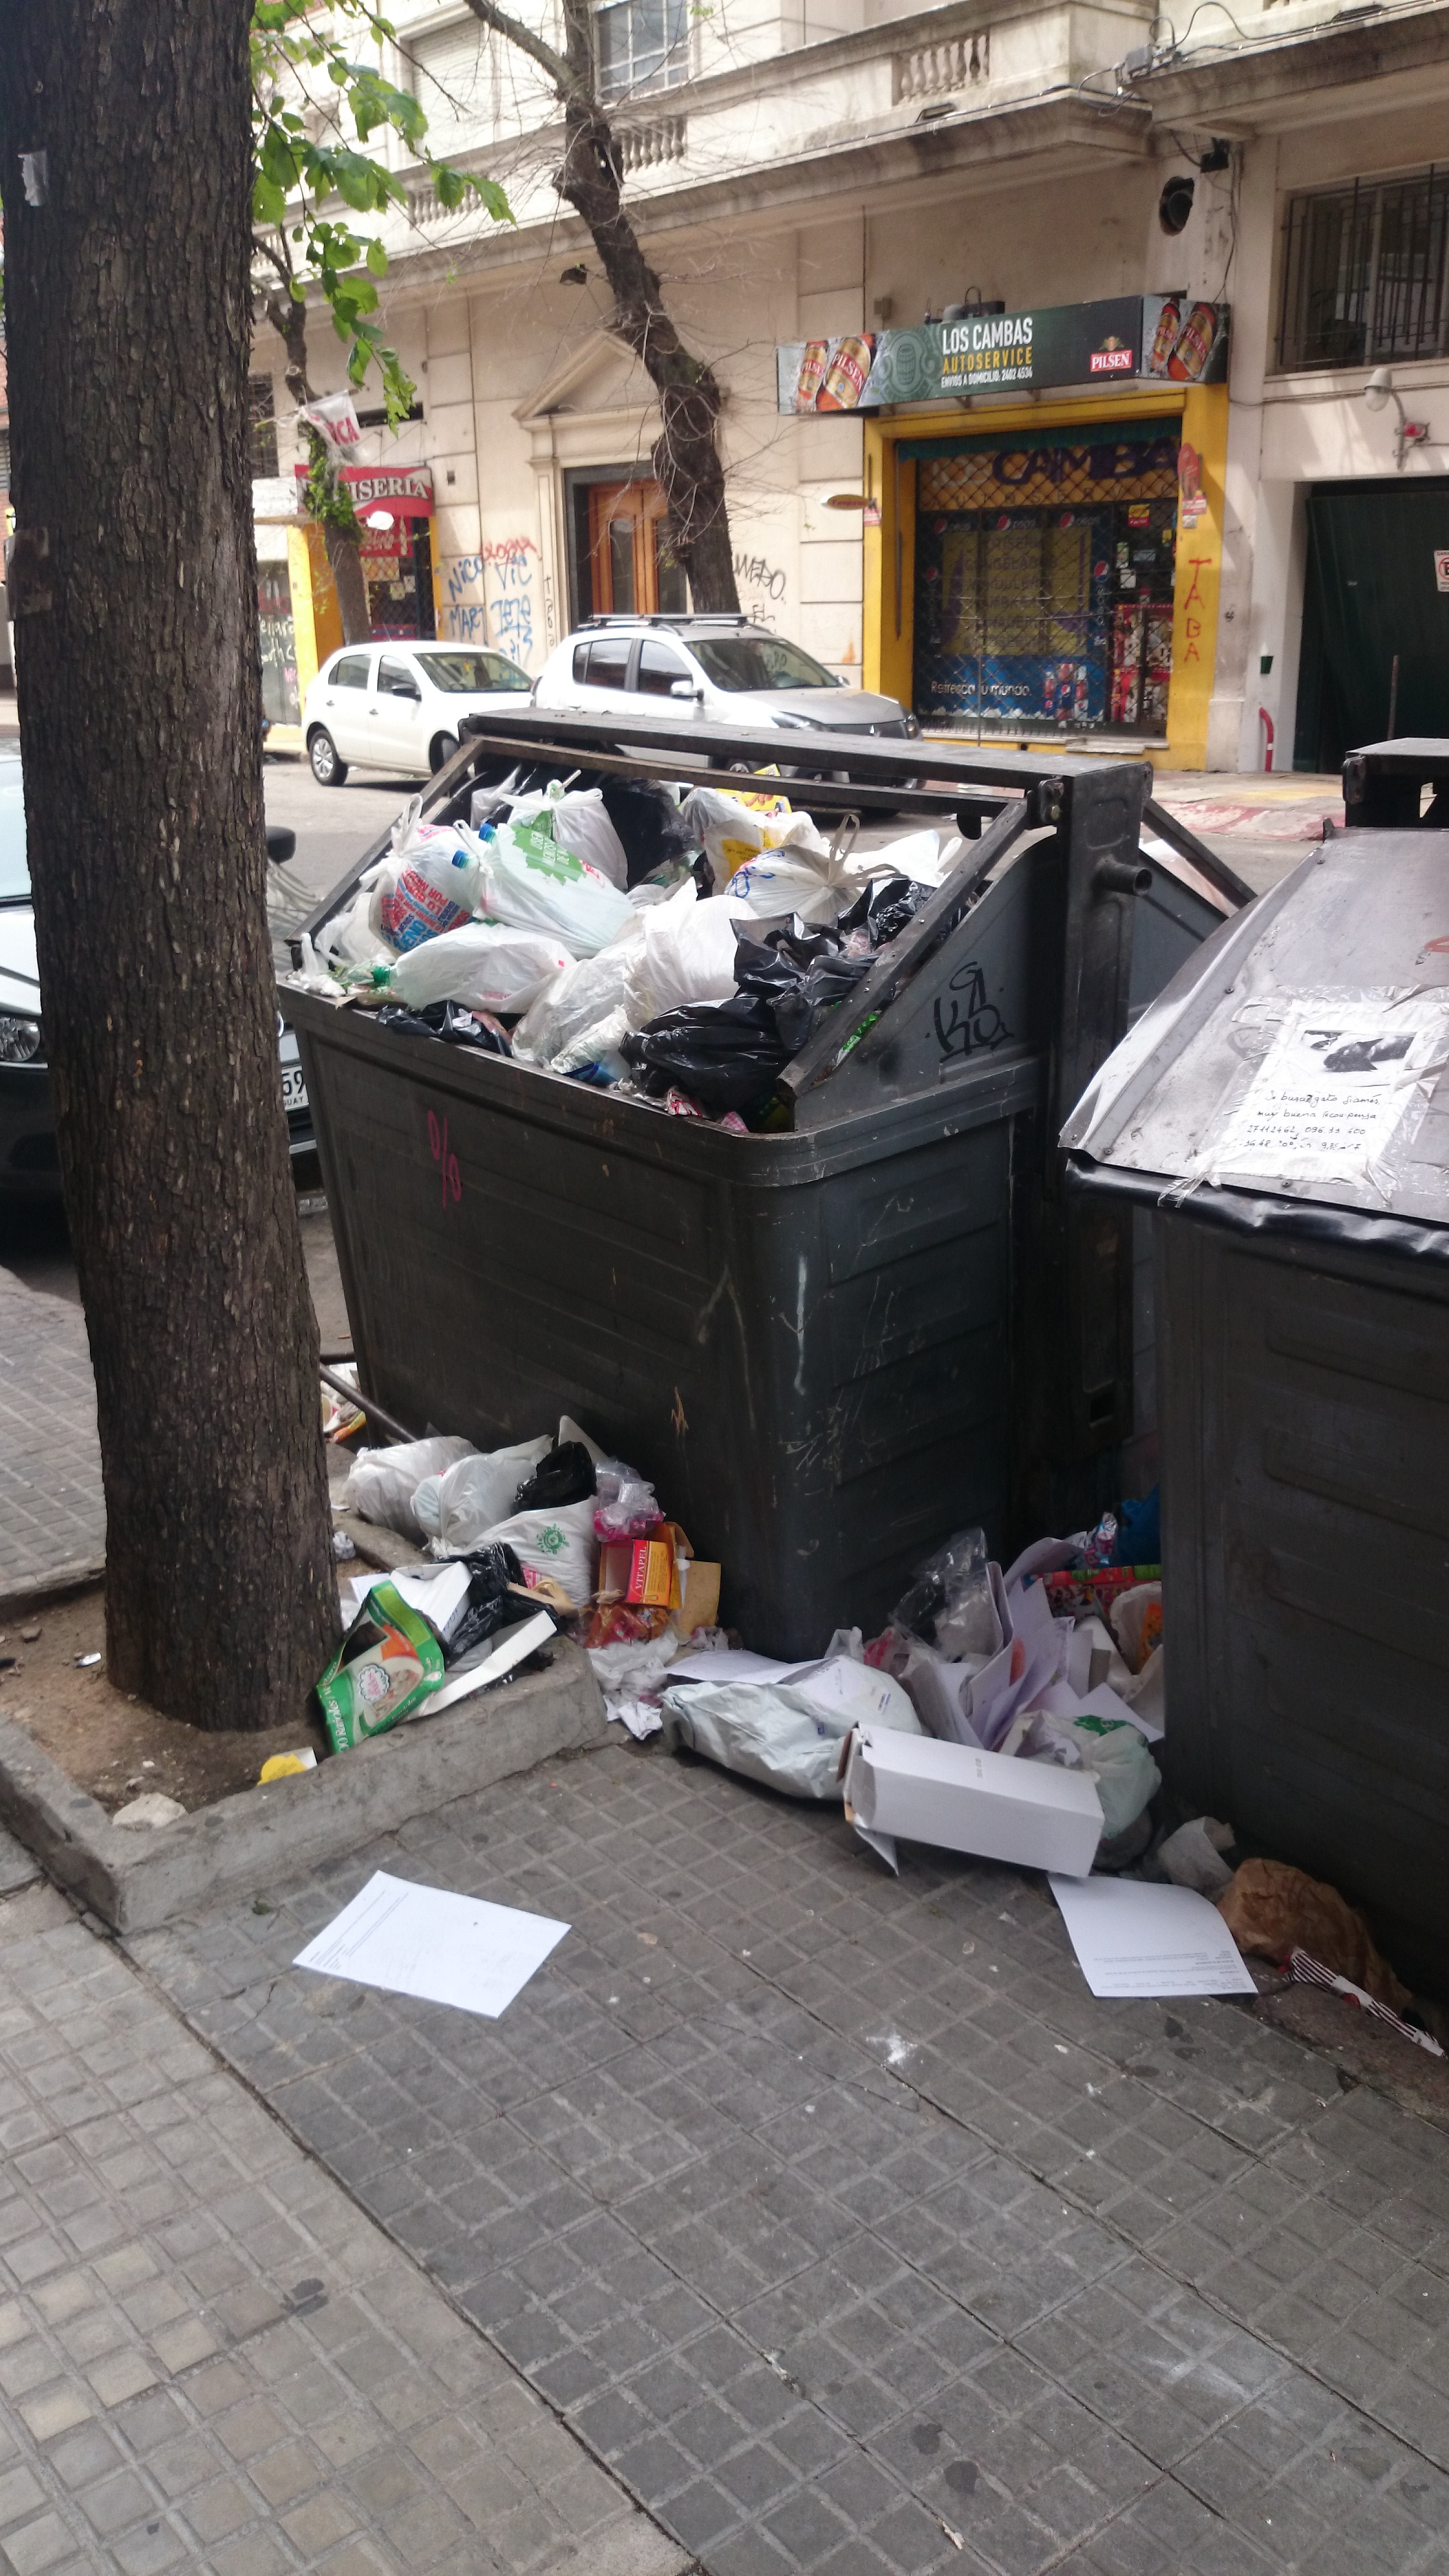container: (283, 702, 1269, 1700), (1044, 725, 1449, 2024)
